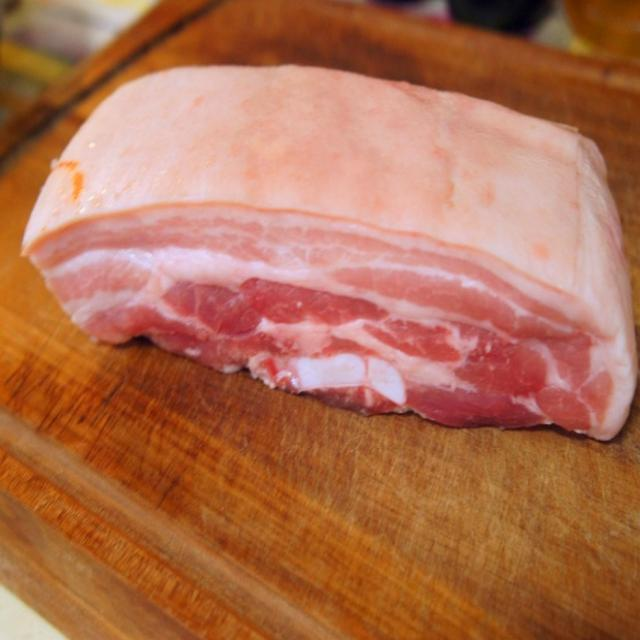--: (44, 58, 635, 449)
